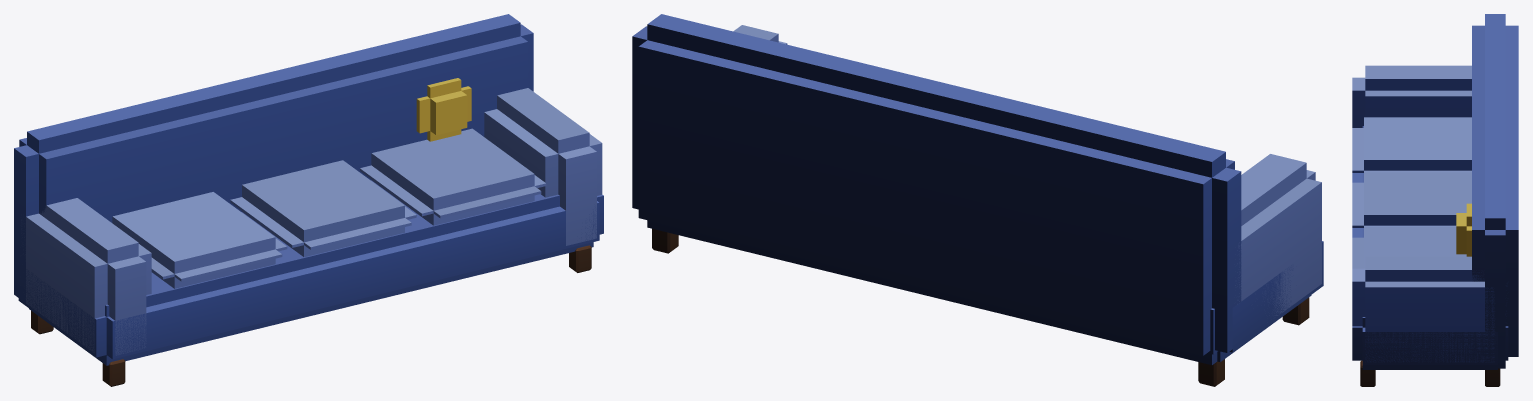
The model's file is sofa.glb.
3 views of the same model, side by side, from view 1: azimuth 30°, elevation 25°; view 2: azimuth 150°, elevation 25°; view 3: azimuth 270°, elevation 25° (orthographic). The views are drawn at different scales.
Parts seen in each view (by area): view 1: sofa; view 2: sofa; view 3: sofa.
Boxes of the visible parts, bbox=[...] form: sofa: bbox=[14, 14, 603, 386]; sofa: bbox=[632, 14, 1323, 386]; sofa: bbox=[1352, 14, 1518, 386].
Bounding box in the file's own units: 1.96 × 0.72 × 0.64.
